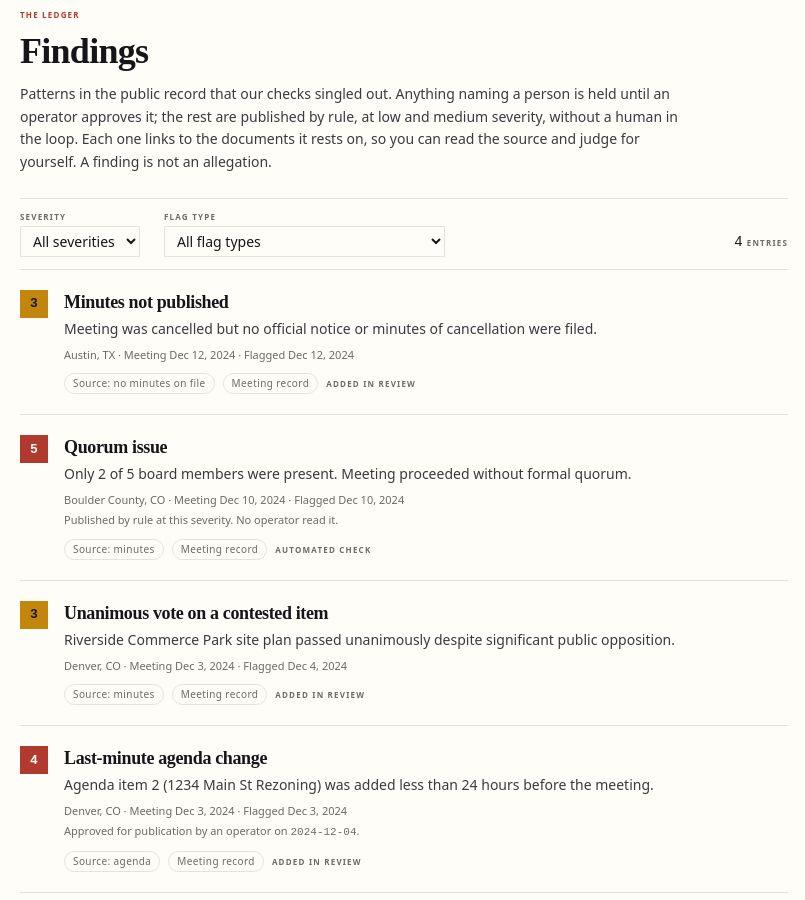
Test case: FindingsPage › filters the ledger by severity
Expected: the heading "Quorum issue" is shown, [64,437,167,457]
Select "5 · Critical" in the dropdown labelled "Severity" at (80,242), box [20,226,140,257]
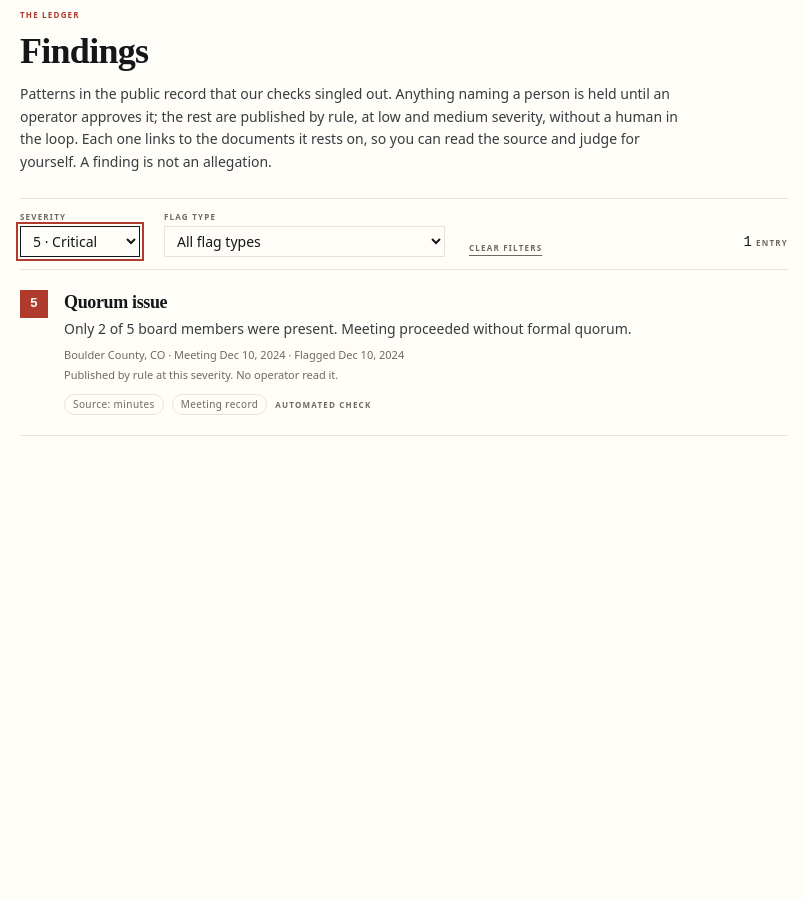
Expected: the heading "Quorum issue" is shown, [64,292,167,312]
Expected: the heading "Last-minute agenda change" is gone
Expected: the text "entry" shows "1", [744,234,752,250]
